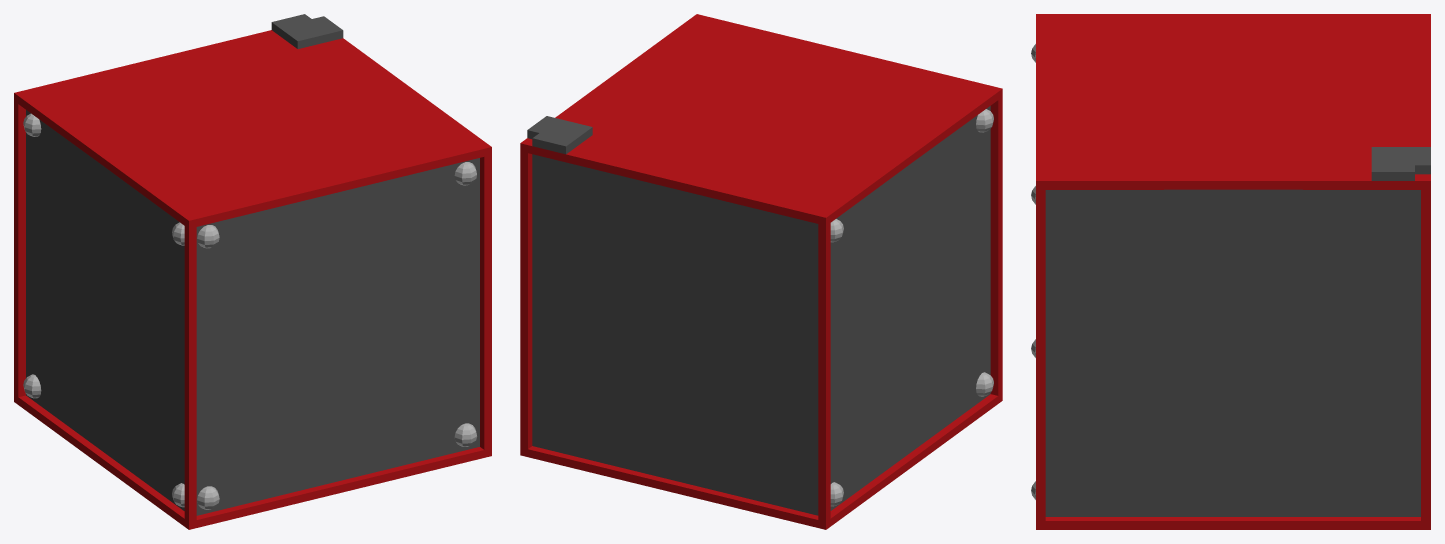
Rendered from machine_tile5.fbx.
3 views of the same model, side by side, from view 1: azimuth 30°, elevation 25°; view 2: azimuth 150°, elevation 25°; view 3: azimuth 270°, elevation 25° (orthographic). The views are drawn at different scales.
Parts seen in each view (by area): view 1: Mesh; view 2: Mesh; view 3: Mesh.
Part boxes in pixels (box(x1,y1,x2,y2)): Mesh: box(14, 14, 491, 529); Mesh: box(520, 14, 1002, 529); Mesh: box(1031, 14, 1430, 529).
Bounding box in the file's own units: 1.01 × 1 × 1.01.
